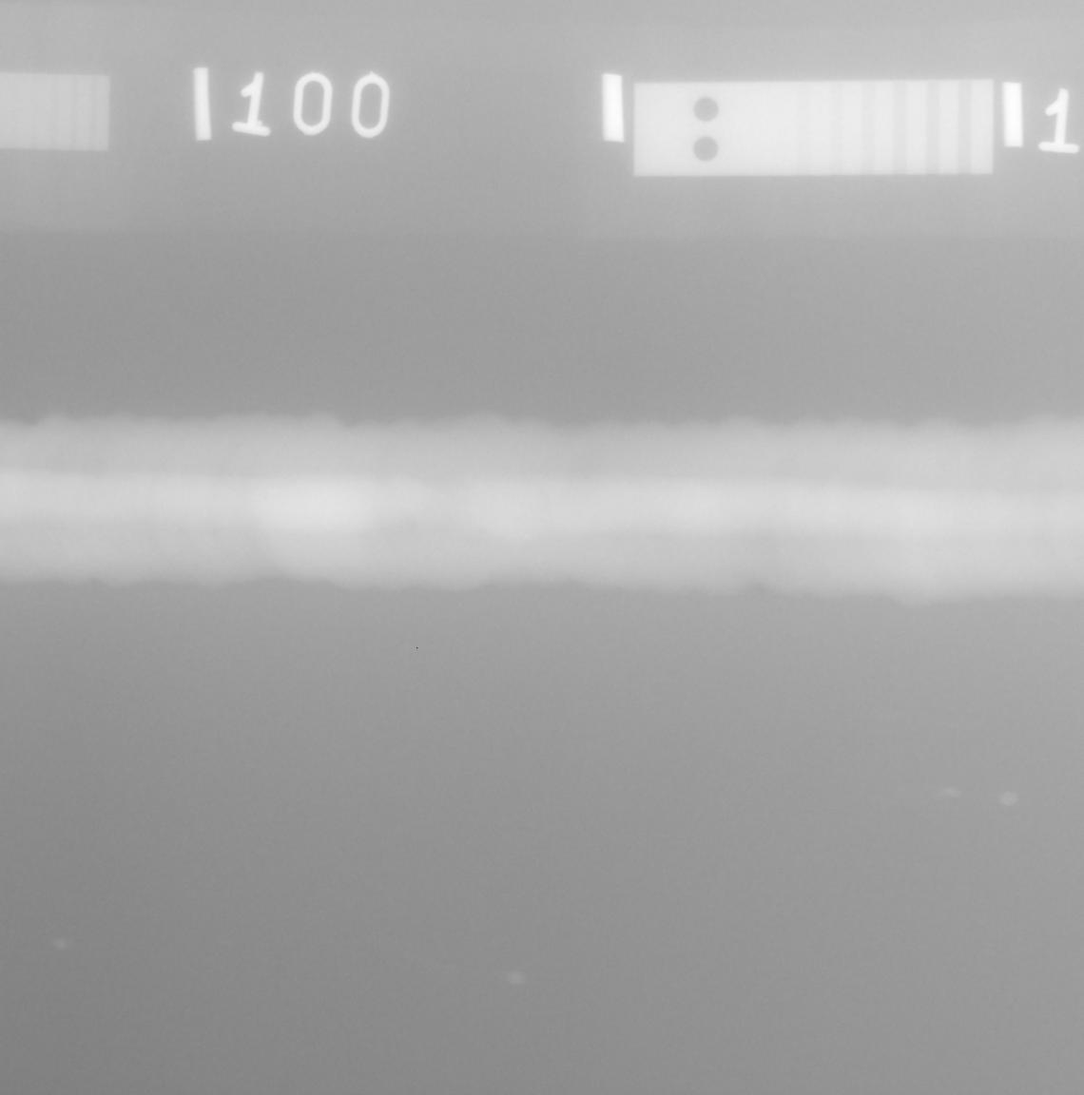Inclusion: (212, 529, 219, 536), (212, 530, 218, 536), (411, 524, 415, 529), (411, 531, 414, 536)
Pore/Porosity: (96, 476, 99, 480)
Reference Standard 2: (633, 79, 994, 176)
